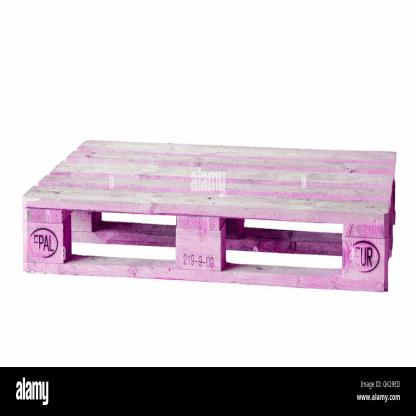BoxFace: (21, 135, 398, 294)
